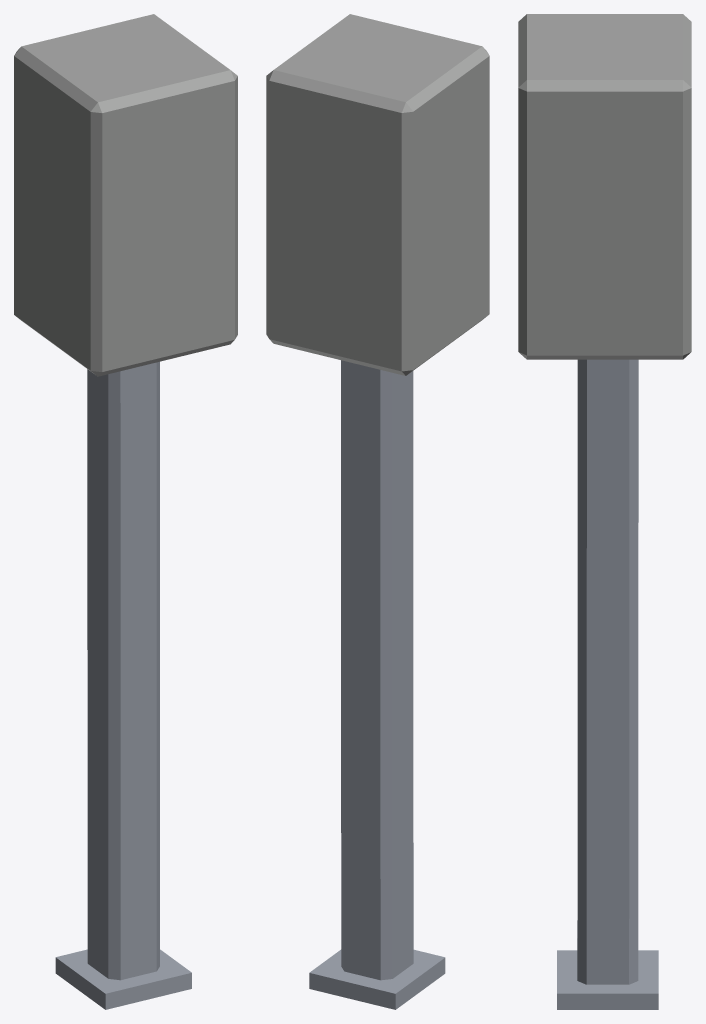
Rendered from SM_Prop_Market_Checkout_Light_03.obj.
The picture shows the model from 3 angles, left to right: view 1: azimuth 30°, elevation 25°; view 2: azimuth 150°, elevation 25°; view 3: azimuth 270°, elevation 25°; orthographic projection. The views are drawn at different scales.
Parts seen in each view (by area): view 1: SM_Prop_Market_Checkout_Light_03_0; view 2: SM_Prop_Market_Checkout_Light_03_0; view 3: SM_Prop_Market_Checkout_Light_03_0.
Boxes of the visible parts, x1,y1,x2,y2 form: SM_Prop_Market_Checkout_Light_03_0: [14, 14, 237, 1009]; SM_Prop_Market_Checkout_Light_03_0: [266, 14, 489, 1009]; SM_Prop_Market_Checkout_Light_03_0: [518, 14, 691, 1009].
Size of the model in its own units: 0.2 by 1.2 by 0.2.
1 material, 1 textured.
